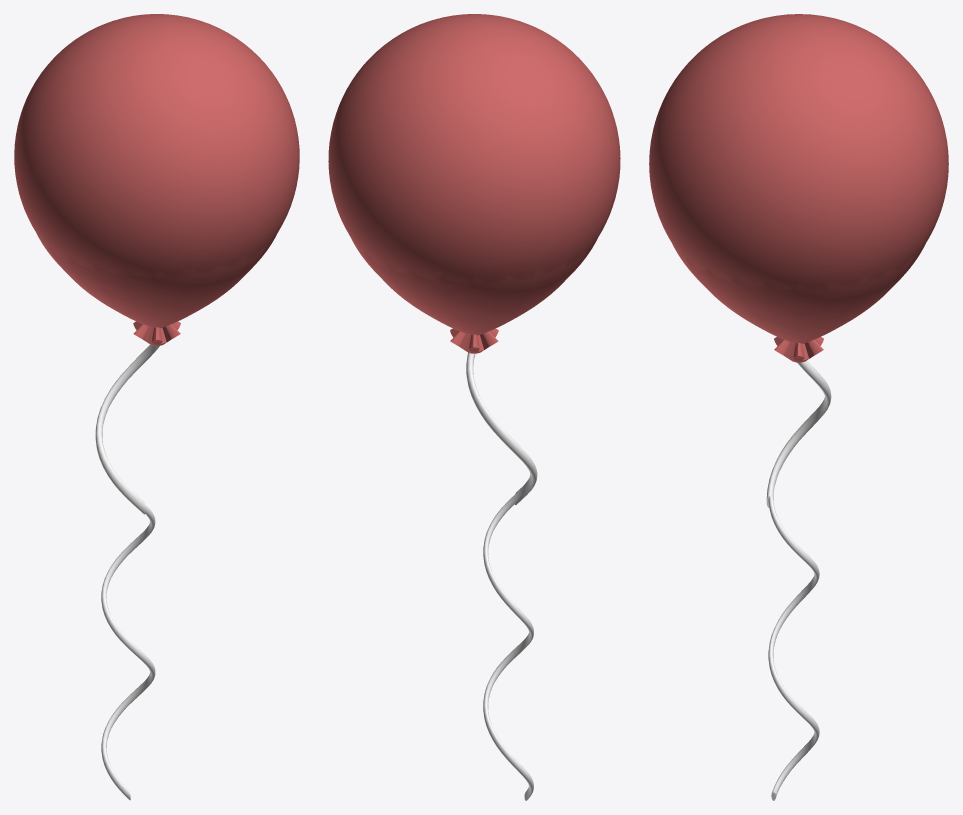
Rendered from globorojo.gltf.
3 views of the same model, side by side, from view 1: azimuth 30°, elevation 25°; view 2: azimuth 150°, elevation 25°; view 3: azimuth 270°, elevation 25° (orthographic). The views are drawn at different scales.
Visible parts, largest first — view 1: Mesh_0, Mesh_1; view 2: Mesh_0, Mesh_1; view 3: Mesh_0, Mesh_1.
Boxes of the visible parts, x1,y1,x2,y2 form: Mesh_0: (14,14,299,345); Mesh_1: (95,344,159,800); Mesh_0: (328,14,620,353); Mesh_1: (466,352,537,800); Mesh_0: (649,14,948,362); Mesh_1: (766,360,831,800).
Bounding box in the file's own units: 2 × 5.84 × 2.
